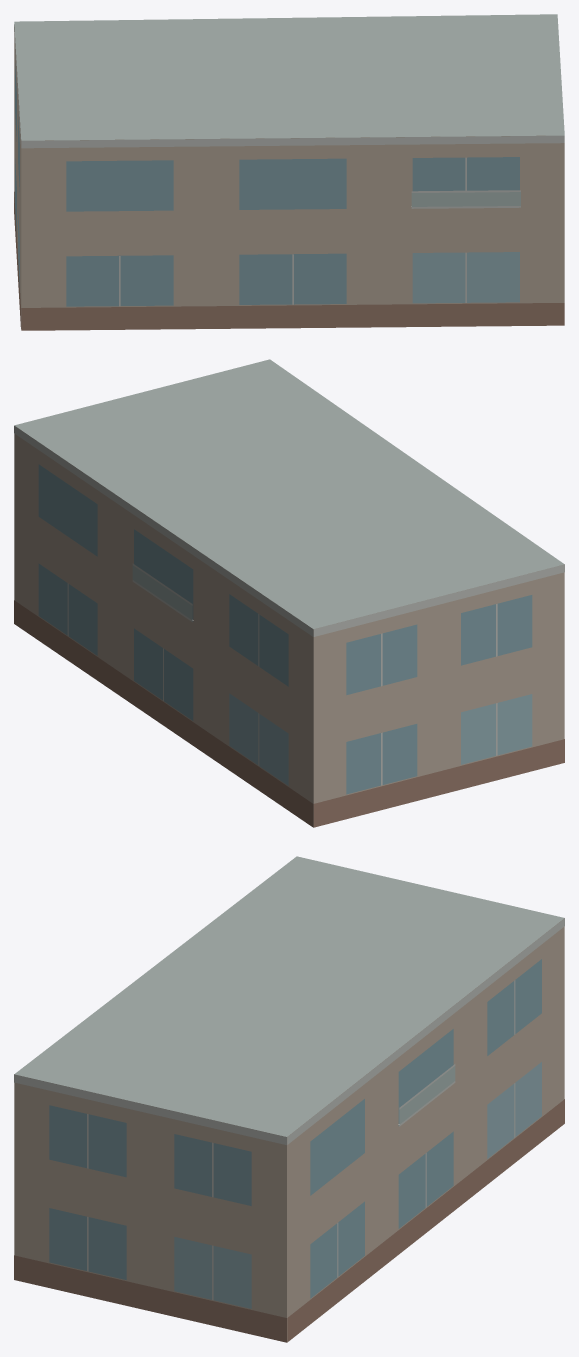
The model's file is survey-upis-33021791.glb.
3 renders of one model, top to bottom at view 1: azimuth 30°, elevation 25°; view 2: azimuth 150°, elevation 25°; view 3: azimuth 270°, elevation 25°, orthographic. The views are drawn at different scales.
Visible parts, largest first — view 1: survey-upis-33021791.tmp; view 2: survey-upis-33021791.tmp; view 3: survey-upis-33021791.tmp.
Boxes of the visible parts, bbox=[...] form: survey-upis-33021791.tmp: bbox=[14, 14, 564, 330]; survey-upis-33021791.tmp: bbox=[14, 359, 564, 827]; survey-upis-33021791.tmp: bbox=[14, 856, 564, 1342].
Bounding box in the file's own units: 17.88 × 6.1 × 14.82.
